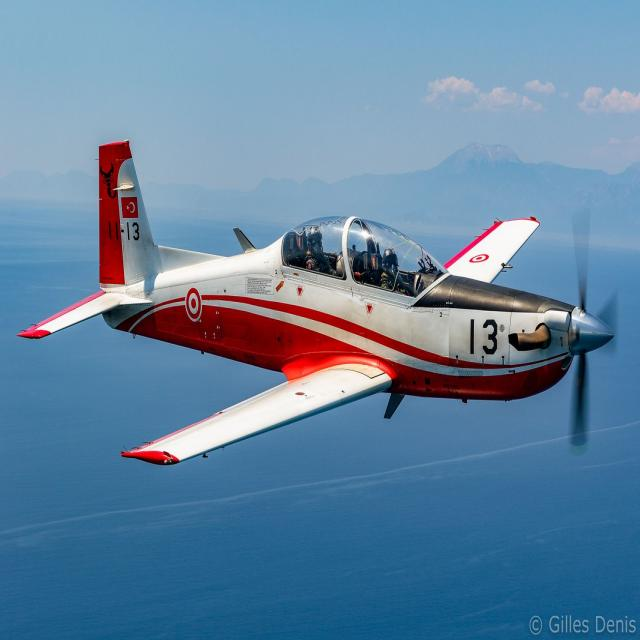KT-1: (18, 142, 618, 470)
